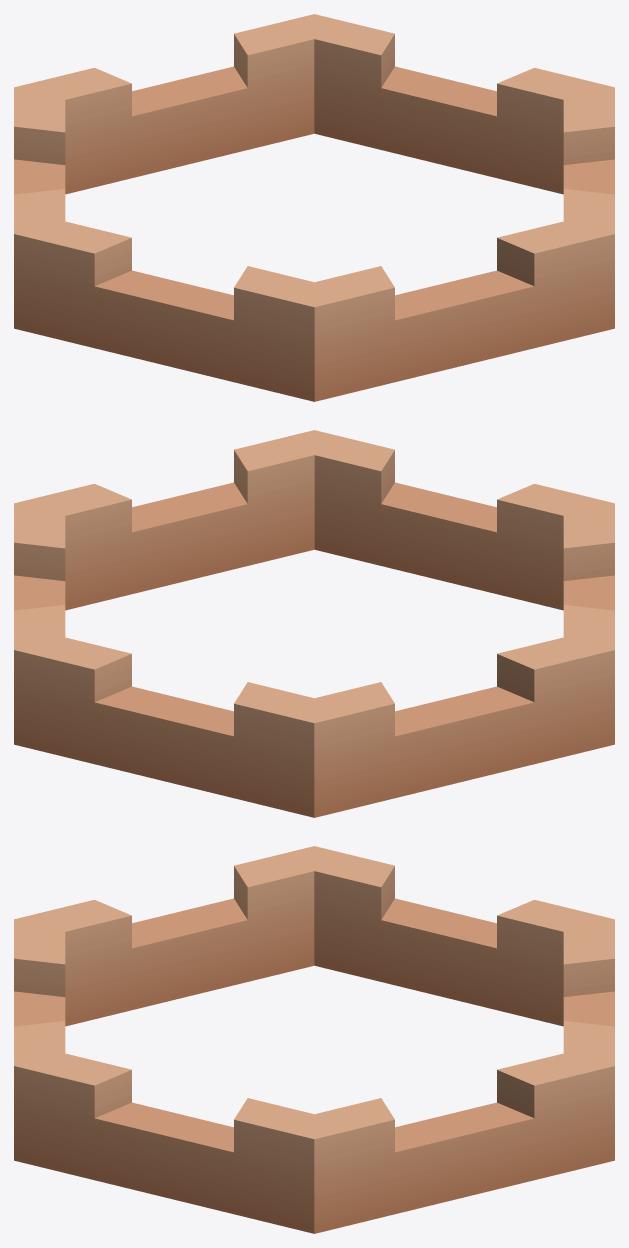
The model's file is tower-hexagon-top.glb.
3 views of the same model, one above another, from view 1: azimuth 30°, elevation 25°; view 2: azimuth 150°, elevation 25°; view 3: azimuth 270°, elevation 25° (orthographic).
Parts seen in each view (by area): view 1: tower-hexagon-top; view 2: tower-hexagon-top; view 3: tower-hexagon-top.
Boxes of the visible parts, x1=… form: tower-hexagon-top: x1=14, y1=14, x2=614, y2=401; tower-hexagon-top: x1=14, y1=430, x2=614, y2=817; tower-hexagon-top: x1=14, y1=846, x2=614, y2=1233.
Bounding box in the file's own units: 0.864 × 0.13 × 0.7482.
1 material, 1 textured.
